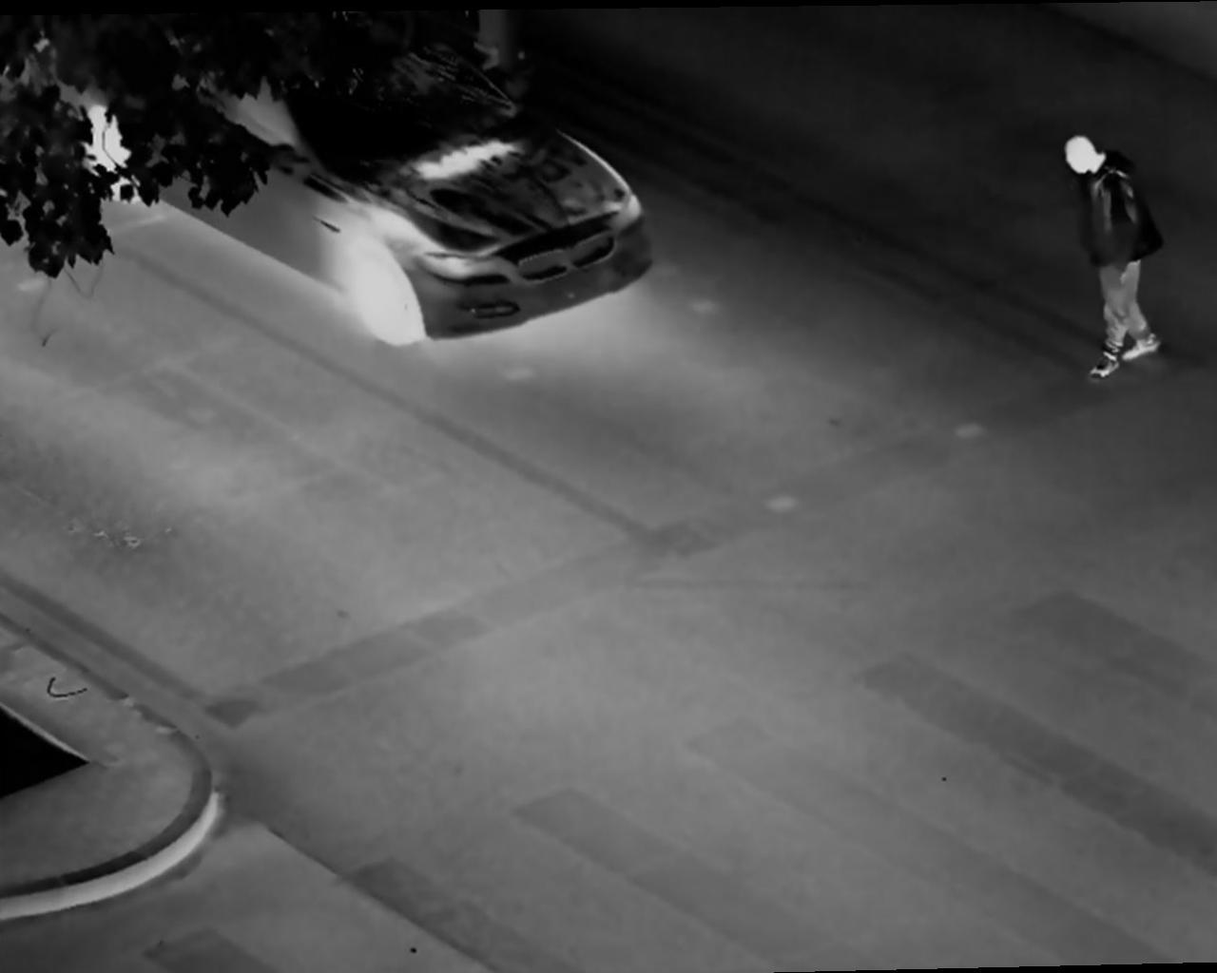person: (1054, 128, 1169, 389)
